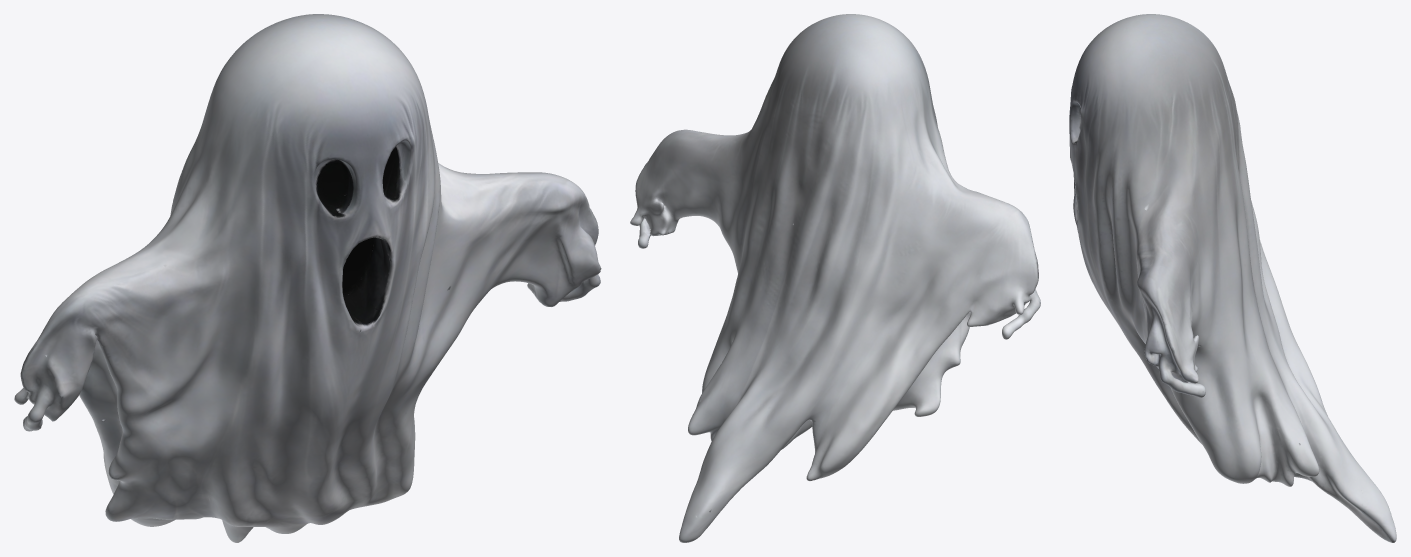
The model's file is ghost_in_a_white_sheet.glb.
The picture shows the model from 3 angles, left to right: view 1: azimuth 30°, elevation 25°; view 2: azimuth 150°, elevation 25°; view 3: azimuth 270°, elevation 25°; orthographic projection. The views are drawn at different scales.
Parts seen in each view (by area): view 1: Object_4; view 2: Object_4; view 3: Object_4.
Boxes of the visible parts, left/top/right/bottom form: Object_4: left=14, top=14, right=601, bottom=542; Object_4: left=630, top=14, right=1040, bottom=542; Object_4: left=1069, top=14, right=1396, bottom=542.
Size of the model in its own units: 1.86 by 2 by 1.21.
1 material, 1 textured.
